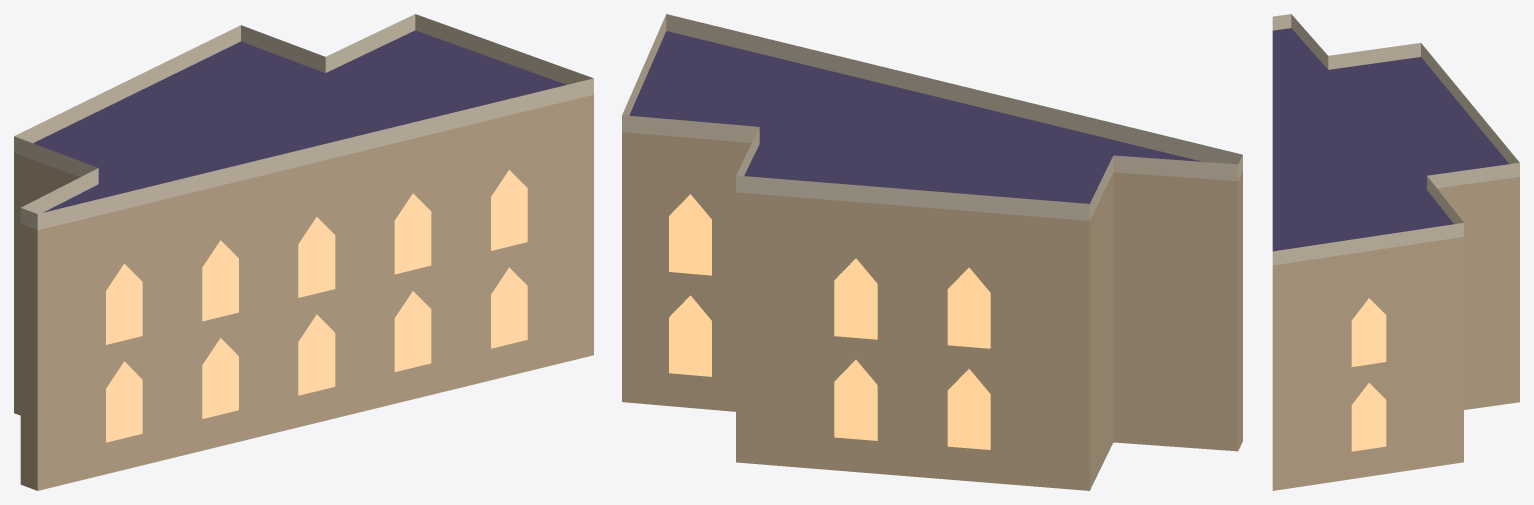
The picture shows the model from 3 angles, left to right: view 1: azimuth 30°, elevation 25°; view 2: azimuth 150°, elevation 25°; view 3: azimuth 270°, elevation 25°; orthographic projection. The views are drawn at different scales.
Visible parts, largest first — view 1: campus/b-137-0; view 2: campus/b-137-0; view 3: campus/b-137-0.
Part boxes in pixels (x1,y1,x2,y2): campus/b-137-0: (14, 14, 593, 490); campus/b-137-0: (622, 14, 1242, 490); campus/b-137-0: (1272, 14, 1519, 490).
Size of the model in its own units: 19.87 by 9.35 by 8.8.
